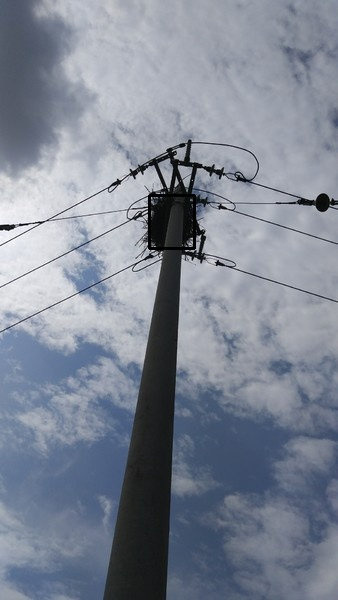bird-nest: (149, 195, 194, 248)
